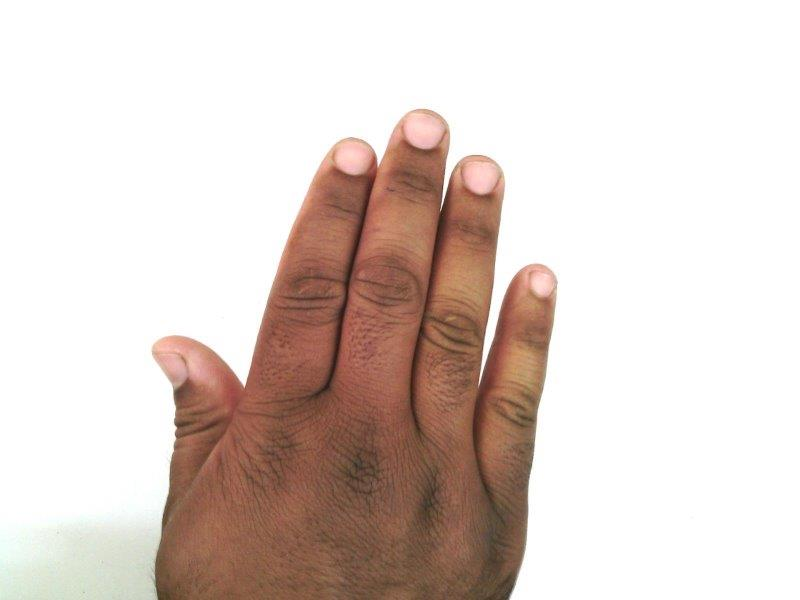hand: (152, 108, 559, 600)
